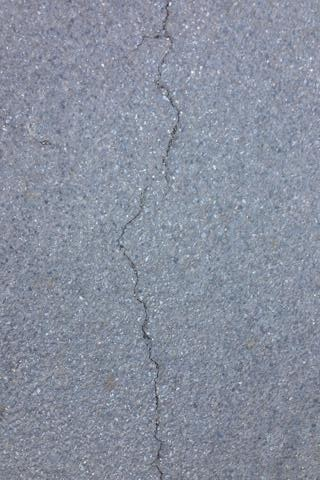A: (114, 1, 184, 480)
